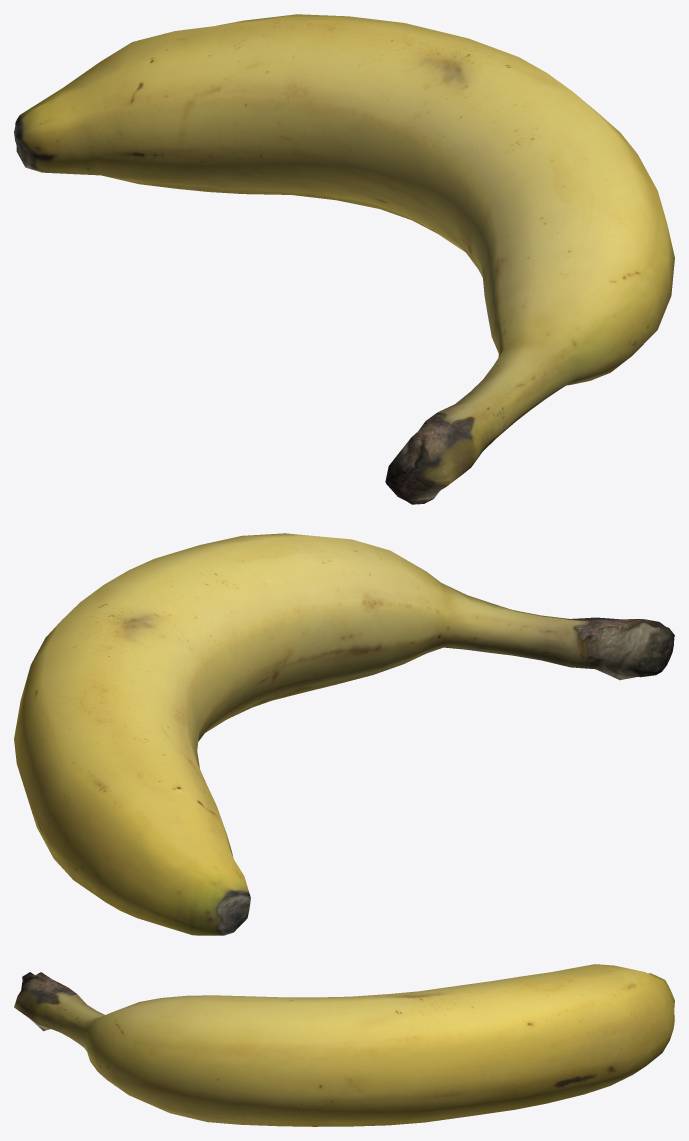
3 renders of one model, top to bottom at view 1: azimuth 30°, elevation 25°; view 2: azimuth 150°, elevation 25°; view 3: azimuth 270°, elevation 25°, orthographic. The views are drawn at different scales.
Visible parts, largest first — view 1: lp banana; view 2: lp banana; view 3: lp banana.
Boxes of the visible parts, x1,y1,x2,y2 form: lp banana: (14,14,674,504); lp banana: (14,533,674,935); lp banana: (14,964,674,1126).
Size of the model in its own units: 20.42 by 8.43 by 36.8.
Materials: 1 (1 with a texture image).
